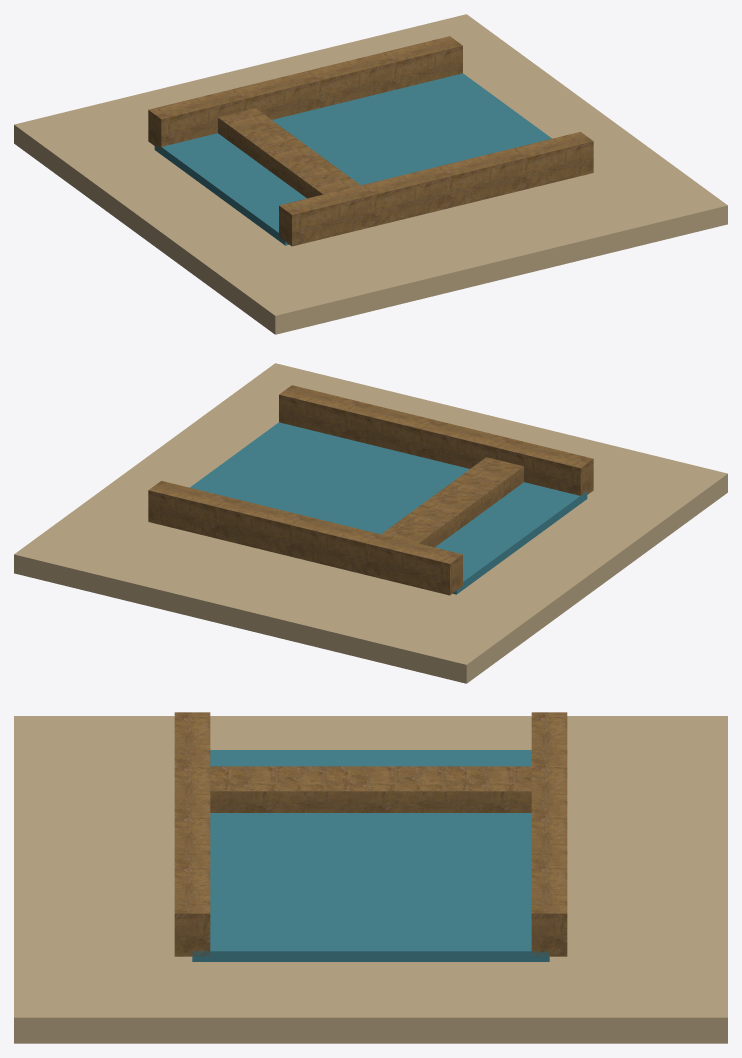
The model's file is fonte.glb.
The picture shows the model from 3 angles, top to bottom: view 1: azimuth 30°, elevation 25°; view 2: azimuth 150°, elevation 25°; view 3: azimuth 270°, elevation 25°; orthographic projection. The views are drawn at different scales.
Visible parts, largest first — view 1: Base ilustrativa, Espelho de água, Borda.001, Borda, Canal de nascente; view 2: Base ilustrativa, Espelho de água, Borda, Borda.001, Canal de nascente; view 3: Base ilustrativa, Espelho de água, Canal de nascente, Borda, Borda.001.
Boxes of the visible parts, x1,y1,x2,y2 form: Base ilustrativa: [14, 14, 727, 334]; Espelho de água: [154, 73, 551, 245]; Borda.001: [279, 132, 593, 246]; Borda: [148, 36, 462, 150]; Canal de nascente: [218, 108, 360, 198]; Base ilustrativa: [14, 363, 727, 683]; Espelho de água: [190, 422, 587, 594]; Borda: [148, 481, 462, 595]; Borda.001: [279, 385, 593, 495]; Canal de nascente: [381, 457, 523, 547]; Base ilustrativa: [14, 716, 727, 1043]; Espelho de água: [192, 750, 549, 961]; Canal de nascente: [210, 766, 531, 812]; Borda: [531, 712, 567, 956]; Borda.001: [174, 712, 210, 956].
Size of the model in its own units: 6 by 0.74 by 6.
3 materials, 1 textured.
